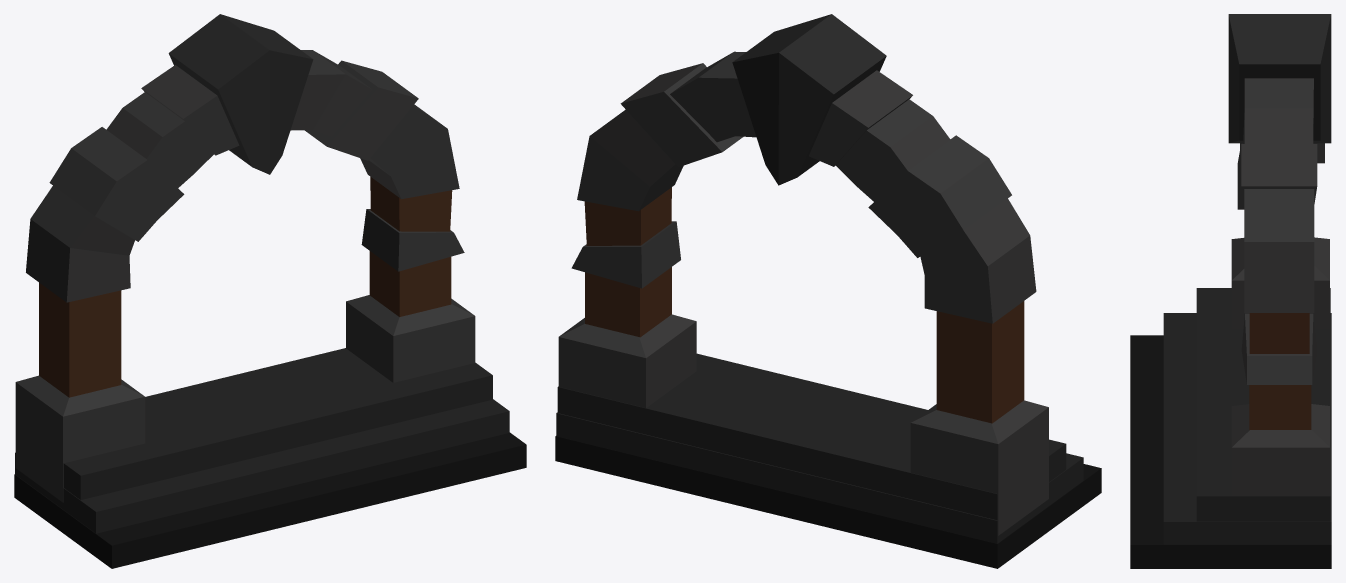
Rendered from Arch.fbx.
3 renders of one model, left to right at view 1: azimuth 30°, elevation 25°; view 2: azimuth 150°, elevation 25°; view 3: azimuth 270°, elevation 25°, orthographic. The views are drawn at different scales.
Parts seen in each view (by area): view 1: Cube.017; view 2: Cube.017; view 3: Cube.017.
Boxes of the visible parts, bbox=[...] form: Cube.017: bbox=[14, 14, 526, 568]; Cube.017: bbox=[555, 14, 1101, 568]; Cube.017: bbox=[1130, 14, 1331, 568].
Size of the model in its own units: 405 by 405 by 165.
